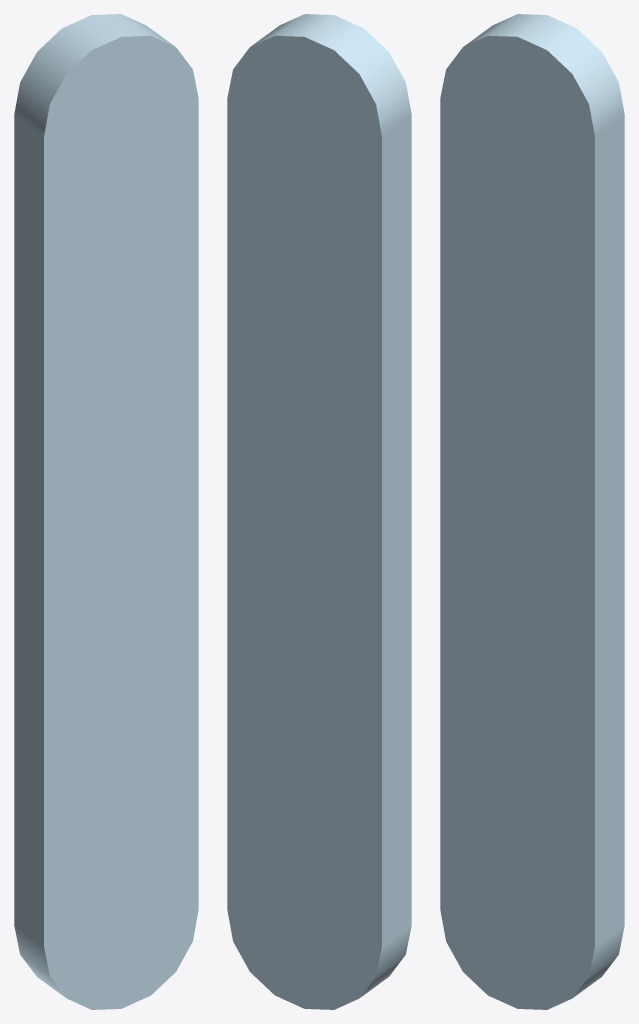
3 views of the same model, side by side, from view 1: azimuth 30°, elevation 25°; view 2: azimuth 150°, elevation 25°; view 3: azimuth 330°, elevation 25° (orthographic).
Visible parts, largest first — view 1: mesh60, mesh58, mesh55, mesh57; view 2: mesh59, mesh58, mesh55, mesh57; view 3: mesh60, mesh56, mesh55, mesh57.
Part boxes in pixels (box(x1,y1,x2,y2)): mesh60: box(44, 35, 198, 1009); mesh58: box(14, 115, 43, 946); mesh55: box(14, 14, 174, 136); mesh57: box(14, 925, 65, 997); mesh59: box(227, 35, 381, 1009); mesh58: box(382, 115, 411, 946); mesh55: box(251, 14, 411, 136); mesh57: box(360, 925, 411, 997); mesh60: box(440, 35, 594, 1009); mesh56: box(595, 115, 624, 946); mesh55: box(464, 14, 624, 136); mesh57: box(573, 925, 624, 997).
Bounding box in the file's own units: 0.03 × 0.18 × 0.01.
